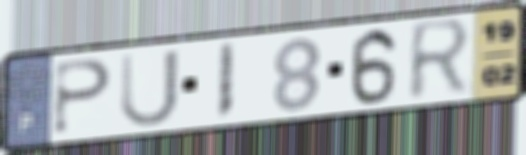6: (348, 26, 402, 107)
8: (271, 34, 325, 114)
I: (213, 40, 238, 123)
P: (50, 57, 116, 137)
R: (406, 15, 476, 106)
U: (118, 46, 183, 130)
